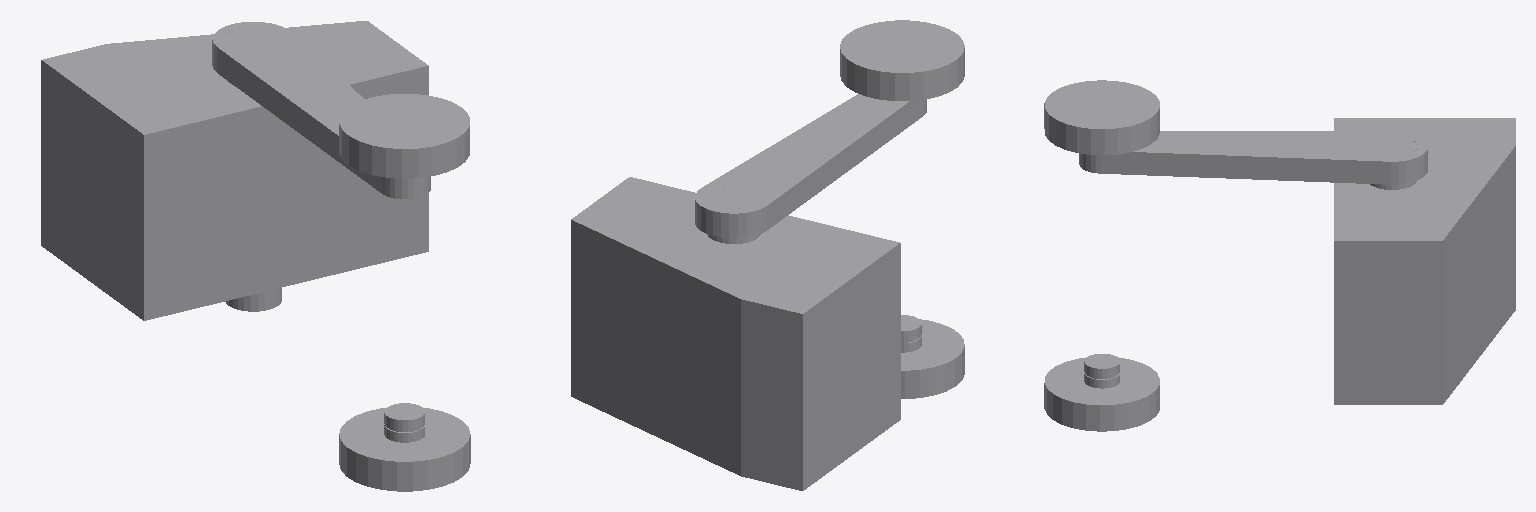
robot.urdf — car_wheel_leg:
<?xml version="1.0" encoding="utf-8"?>
<!--
  wheel-leg robot : car.urdf
  Generated by urdf/tools/build_final.py (do not hand-edit).

  SOURCE OF TRUTH
    geometry : model/car.STEP  (parsed: assembly transforms + bore features)
    mass     : 质量属性/*.txt  (SolidWorks mass-property reports)

  FRAME (CAD axes, right-handed, metres)
    X : forward   (body long axis, 40 mm)
    Y : height    (25 mm body, leg hangs toward -Y)
    Z : lateral   (across the two wheels; body 35 mm)

  DERIVED GEOMETRY (all verified to <1e-6 mm)
    leg pitch, hip bore to wheel bore           = 40.000000 mm
    wheel outer radius                          =  8.000 mm   (R8 face)
    wheel width                                 =  7.000 mm
    leg  thickness / width                      =  3.500 / 10.000 mm
    body                                        = 40.000 x 25.000 x 35.000 mm
    hip_lower  Z = 0.0        hip_upper  Z = 31.5
    wheel_lower centre Z = -2.0   wheel_upper centre Z = 37.0
      (mirror-symmetric about the body mid-plane Z = 17.5)

  JOINTS
    hip_*_joint    revolute,   axis Z  (leg swings in the X-Y plane)
    wheel_*_joint  continuous, axis Z  (wheel spins about Z)
    Both hip and wheel axes are lateral, because the leg's hip bore and its
    wheel bore are coaxial with the wheel's spin axis.

  MASS (total 25.53 g)
    body 21.53 g | leg 1.14 g x2 | wheel 0.86 g x2
    Inertia tensors are the "by centroid" blocks of the reports,
    converted g*mm^2 to kg*m^2.

  NOTES
    * Meshes are link-local (origin at that link's joint anchor), in metres,
      sharing the CAD axes, so no rpy or offset is needed on <visual>.
    * leg_upper is leg_lower translated; wheel_upper is wheel_lower rotated
      180 deg about Y.  Each link therefore gets its own mesh file.
-->
<robot name="car_wheel_leg">
  <link name="body">
    <inertial>
      <origin xyz="-0.01114 0.0017 0.0175" rpy="0 0 0"/>
      <mass value="0.02153"/>
      <inertia ixx="2.09079e-06" ixy="-3.7498e-07" ixz="0" iyy="3.89021e-06" iyz="0" izz="3.60349e-06"/>
    </inertial>
    <visual>
      <origin xyz="0 0 0" rpy="0 0 0"/>
      <geometry>
        <mesh filename="meshes/body_local.stl"/>
      </geometry>
      <material name="grey">
        <color rgba="0.7 0.7 0.72 1.0"/>
      </material>
    </visual>
    <collision>
      <origin xyz="0 0 0" rpy="0 0 0"/>
      <geometry>
        <mesh filename="meshes/body_local.stl"/>
      </geometry>
    </collision>
  </link>

  <link name="leg_lower">
    <inertial>
      <origin xyz="-0.000812491 -0.018049094 0.00175" rpy="0 0 0"/>
      <mass value="0.00114"/>
      <inertia ixx="1.6101e-07" ixy="6.89e-09" ixz="0" iyy="8.7e-09" iyz="0" izz="1.6738e-07"/>
    </inertial>
    <visual>
      <origin xyz="0 0 0" rpy="0 0 0"/>
      <geometry>
        <mesh filename="meshes/leg_lower_local.stl"/>
      </geometry>
      <material name="grey">
        <color rgba="0.7 0.7 0.72 1.0"/>
      </material>
    </visual>
    <collision>
      <origin xyz="0 0 0" rpy="0 0 0"/>
      <geometry>
        <mesh filename="meshes/leg_lower_local.stl"/>
      </geometry>
    </collision>
  </link>

  <link name="leg_upper">
    <inertial>
      <origin xyz="-0.000812491 -0.018049094 0.00175" rpy="0 0 0"/>
      <mass value="0.00114"/>
      <inertia ixx="1.6101e-07" ixy="6.89e-09" ixz="0" iyy="8.7e-09" iyz="0" izz="1.6738e-07"/>
    </inertial>
    <visual>
      <origin xyz="0 0 0" rpy="0 0 0"/>
      <geometry>
        <mesh filename="meshes/leg_upper_local.stl"/>
      </geometry>
      <material name="grey">
        <color rgba="0.7 0.7 0.72 1.0"/>
      </material>
    </visual>
    <collision>
      <origin xyz="0 0 0" rpy="0 0 0"/>
      <geometry>
        <mesh filename="meshes/leg_upper_local.stl"/>
      </geometry>
    </collision>
  </link>

  <link name="wheel_lower">
    <inertial>
      <origin xyz="2.069e-06 1.8e-07 -0.00326" rpy="0 0 0"/>
      <mass value="0.00086"/>
      <inertia ixx="1.474e-08" ixy="0" ixz="0" iyy="1.474e-08" iyz="0" izz="2.592e-08"/>
    </inertial>
    <visual>
      <origin xyz="0 0 0" rpy="0 0 0"/>
      <geometry>
        <mesh filename="meshes/wheel_lower_local.stl"/>
      </geometry>
      <material name="grey">
        <color rgba="0.7 0.7 0.72 1.0"/>
      </material>
    </visual>
    <collision>
      <origin xyz="0 0 0" rpy="0 0 0"/>
      <geometry>
        <mesh filename="meshes/wheel_lower_local.stl"/>
      </geometry>
    </collision>
  </link>

  <link name="wheel_upper">
    <inertial>
      <origin xyz="2.069e-06 1.8e-07 0.00326" rpy="0 0 0"/>
      <mass value="0.00086"/>
      <inertia ixx="1.474e-08" ixy="0" ixz="0" iyy="1.474e-08" iyz="0" izz="2.592e-08"/>
    </inertial>
    <visual>
      <origin xyz="0 0 0" rpy="0 0 0"/>
      <geometry>
        <mesh filename="meshes/wheel_upper_local.stl"/>
      </geometry>
      <material name="grey">
        <color rgba="0.7 0.7 0.72 1.0"/>
      </material>
    </visual>
    <collision>
      <origin xyz="0 0 0" rpy="0 0 0"/>
      <geometry>
        <mesh filename="meshes/wheel_upper_local.stl"/>
      </geometry>
    </collision>
  </link>

  <joint name="hip_lower_joint" type="revolute">
    <origin xyz="-0.009397509 -0.001080906 0" rpy="0 0 0"/>
    <parent link="body"/>
    <child link="leg_lower"/>
    <axis xyz="0 0 1"/>
    <limit lower="-0.8" upper="0.8" effort="10" velocity="20"/>
  </joint>
  <joint name="hip_upper_joint" type="revolute">
    <origin xyz="-0.009397509 -0.001080906 0.0315" rpy="0 0 0"/>
    <parent link="body"/>
    <child link="leg_upper"/>
    <axis xyz="0 0 1"/>
    <limit lower="-0.8" upper="0.8" effort="10" velocity="20"/>
  </joint>
  <joint name="wheel_lower_joint" type="continuous">
    <origin xyz="-0.00180456 -0.039959274 0" rpy="0 0 0"/>
    <parent link="leg_lower"/>
    <child link="wheel_lower"/>
    <axis xyz="0 0 1"/>
    <limit effort="10" velocity="20"/>
  </joint>
  <joint name="wheel_upper_joint" type="continuous">
    <origin xyz="-0.00180456 -0.039959274 0.0035" rpy="0 0 0"/>
    <parent link="leg_upper"/>
    <child link="wheel_upper"/>
    <axis xyz="0 0 1"/>
    <limit effort="10" velocity="20"/>
  </joint>

</robot>

--- Render facts (derived) ---
Views: 3 orthographic renders of the robot side by side, from view 1: azimuth 30°, elevation 25°; view 2: azimuth 150°, elevation 25°; view 3: azimuth 270°, elevation 25°.
Model car_wheel_leg with 5 links and 4 joints (2 revolute, 2 continuous), rooted at body, posed every joint at zero.
Visible links, largest first — view 1: body, leg_upper, wheel_lower, wheel_upper; view 2: body, leg_upper, wheel_upper, wheel_lower; view 3: body, leg_upper, wheel_lower, wheel_upper.
Boxes of the visible links, left/top/right/bottom form: body: left=41, top=21, right=428, bottom=320; leg_upper: left=212, top=22, right=430, bottom=198; wheel_lower: left=339, top=403, right=470, bottom=491; wheel_upper: left=339, top=94, right=469, bottom=178; body: left=571, top=177, right=900, bottom=490; leg_upper: left=695, top=94, right=926, bottom=237; wheel_upper: left=840, top=20, right=964, bottom=100; wheel_lower: left=901, top=315, right=964, bottom=398; body: left=1334, top=118, right=1515, bottom=404; leg_upper: left=1079, top=131, right=1427, bottom=184; wheel_lower: left=1044, top=354, right=1159, bottom=431; wheel_upper: left=1044, top=80, right=1159, bottom=155.
Bounding box of the posed robot: 0.04 × 0.0649 × 0.046 m (x, y, z).
4 mesh visuals loaded from 5 distinct referenced files (4 binary STL); not drawn: 1 (reference not matched to a file when rendering).
